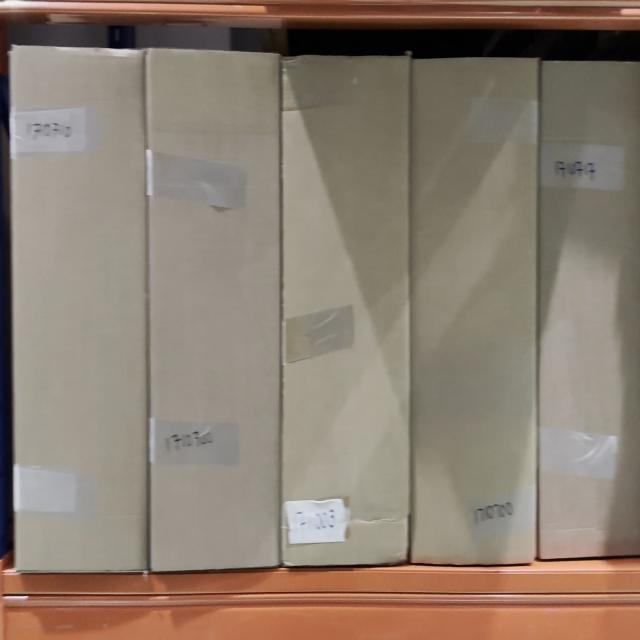box: (14, 51, 147, 572), (151, 54, 280, 568), (412, 61, 538, 559), (284, 58, 406, 560)
